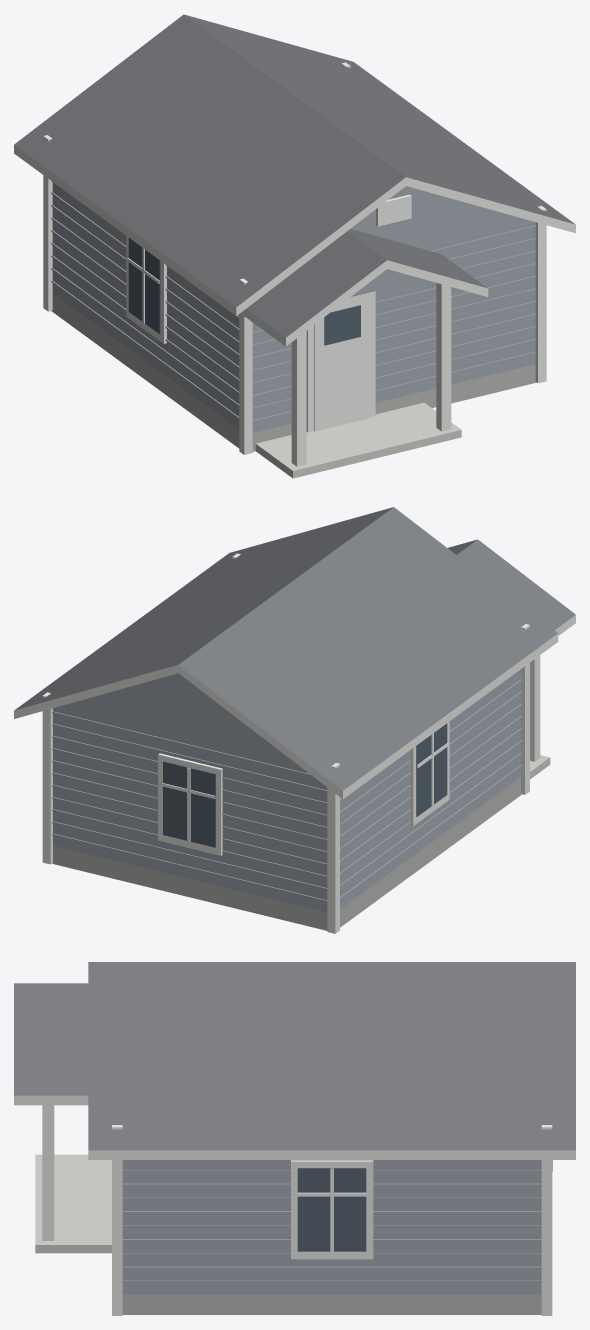
File: lathrop-cottage.glb
3 renders of one model, top to bottom at view 1: azimuth 30°, elevation 25°; view 2: azimuth 150°, elevation 25°; view 3: azimuth 270°, elevation 25°, orthographic. The views are drawn at different scales.
Parts seen in each view (by area): view 1: The Lathrop (cottage); view 2: The Lathrop (cottage); view 3: The Lathrop (cottage).
Part boxes in pixels (box(x1,y1,x2,y2)): The Lathrop (cottage): box(14, 14, 575, 478); The Lathrop (cottage): box(14, 507, 575, 933); The Lathrop (cottage): box(14, 962, 575, 1315).
Size of the model in its own units: 5.64 by 3.97 by 7.37.
